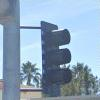traffic lights: (38, 19, 72, 97)
